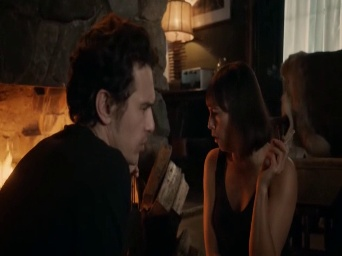smoke: (280, 124, 295, 146)
